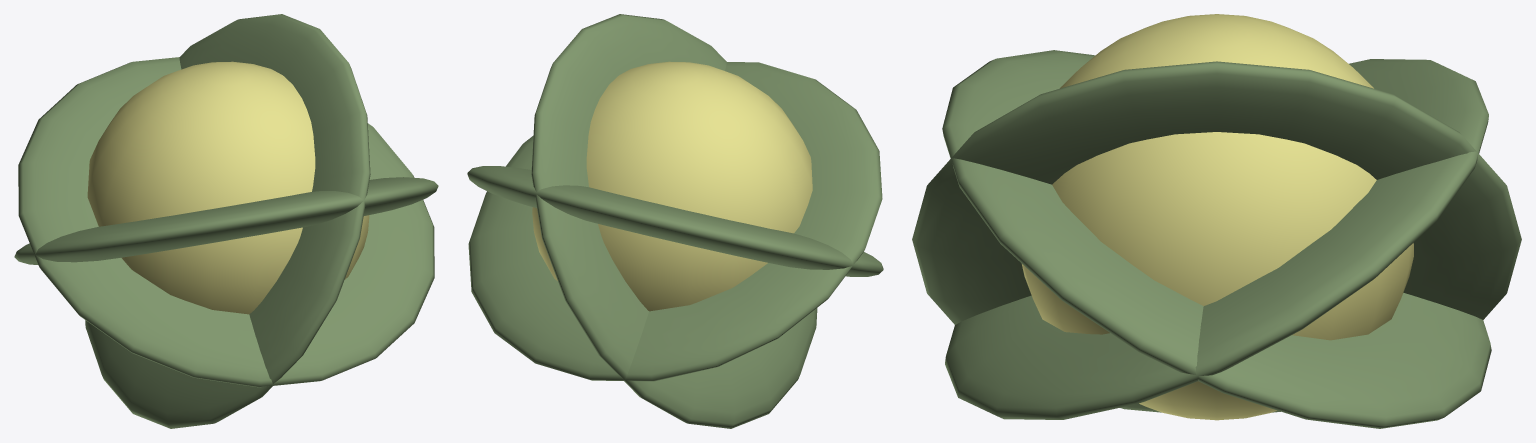
File: Star.fbx
The picture shows the model from 3 angles, left to right: view 1: azimuth 30°, elevation 25°; view 2: azimuth 150°, elevation 25°; view 3: azimuth 270°, elevation 25°; orthographic projection. The views are drawn at different scales.
Parts seen in each view (by area): view 1: pTorus1, pSphere1, pTorus3, pTorus2; view 2: pTorus2, pSphere1, pTorus3, pTorus1; view 3: pTorus3, pSphere1, pTorus2, pTorus1.
Part boxes in pixels (bbox=[...]): pTorus1: bbox=[18, 57, 434, 387]; pSphere1: bbox=[87, 61, 369, 314]; pTorus3: bbox=[85, 14, 370, 428]; pTorus2: bbox=[14, 177, 438, 264]; pTorus2: bbox=[468, 62, 882, 381]; pSphere1: bbox=[532, 61, 812, 311]; pTorus3: bbox=[531, 14, 817, 428]; pTorus1: bbox=[467, 166, 883, 276]; pTorus3: bbox=[912, 61, 1521, 412]; pSphere1: bbox=[1022, 14, 1413, 420]; pTorus2: bbox=[942, 50, 1491, 428]; pTorus1: bbox=[945, 59, 1488, 419].
Bounding box in the file's own units: 3 × 2.6 × 3.
